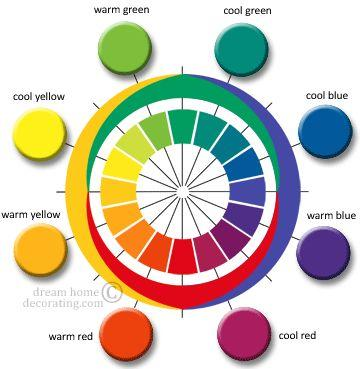blue_circle: (295, 97, 357, 170)
red_circle: (88, 301, 161, 366)
yellow_circle: (6, 105, 76, 166)
